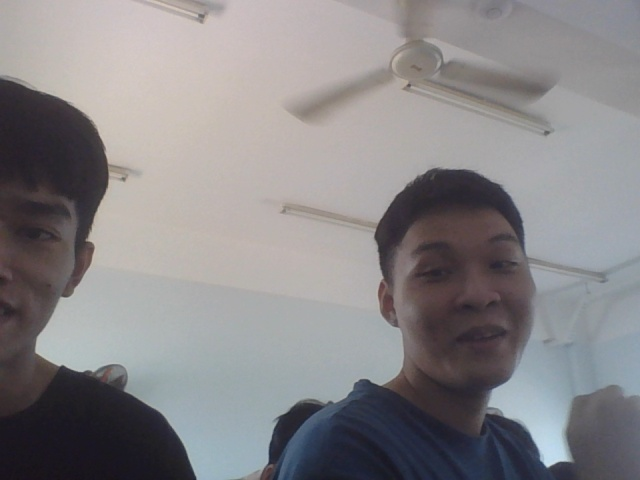real: (371, 151, 548, 402)
